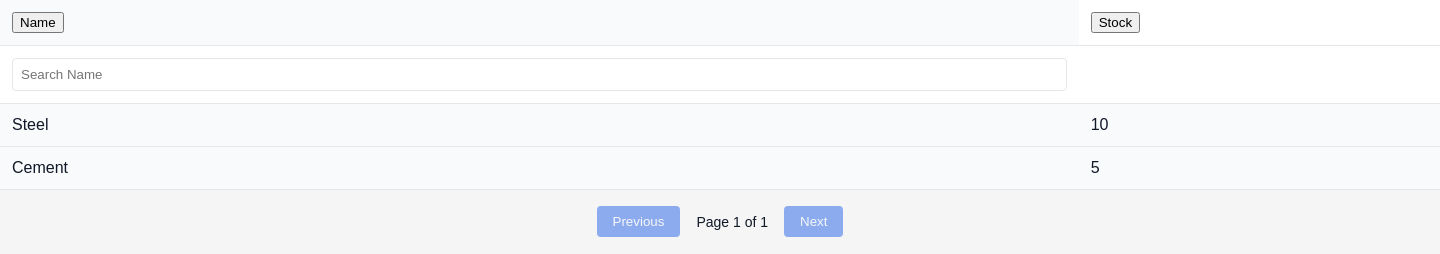
Test: DataTable › filters data correctly
The width and height of the screenshot is (1440, 254).
Type "Steel" into the field with placeholder "Search Name" at {"x": 539, "y": 74}, box 12,58 -> 1067,91
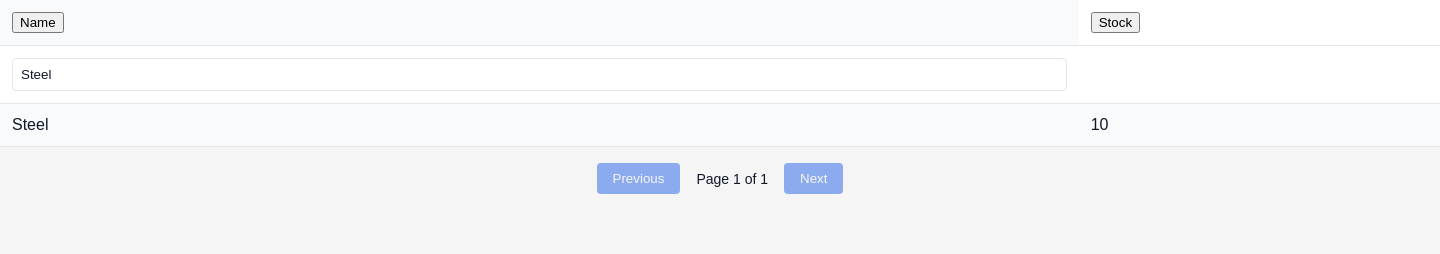
Check: the text "Steel" is shown, box 0,104 -> 1079,146
Check: the text "Cement" is gone
